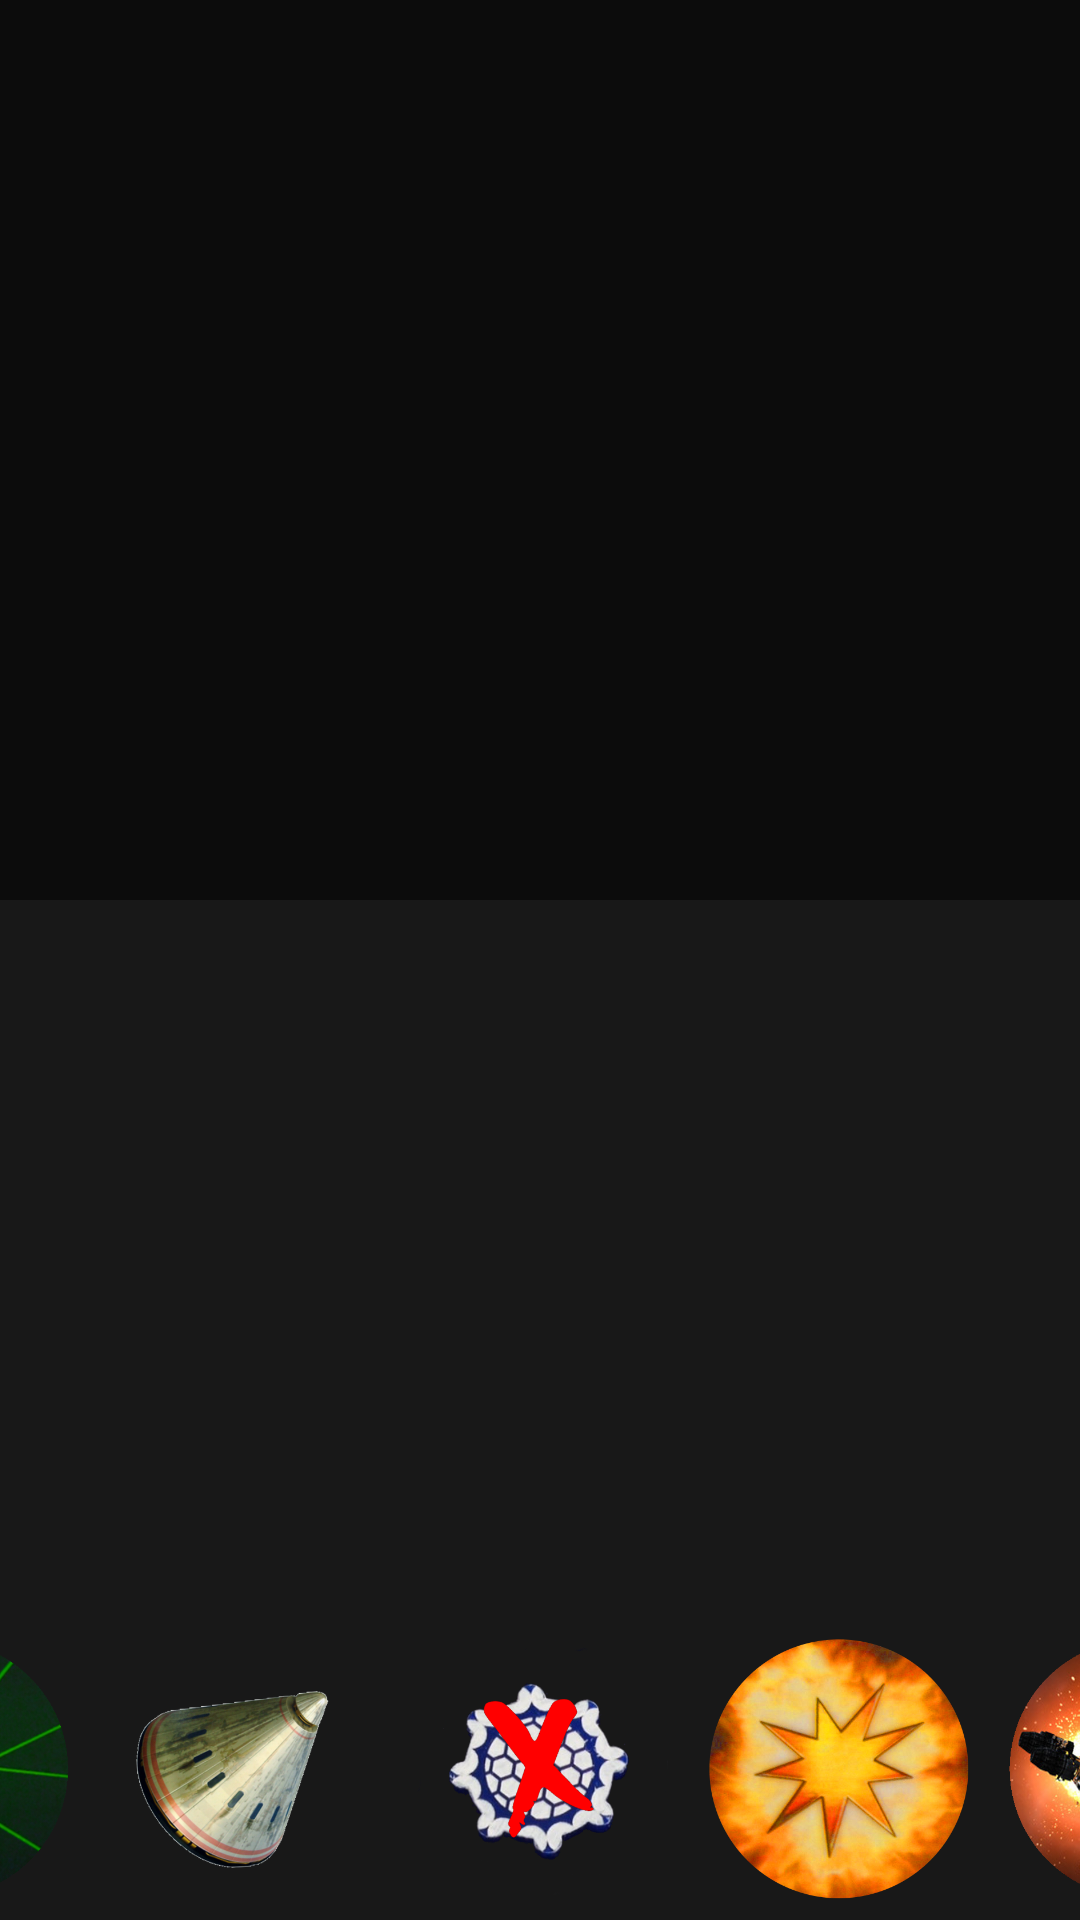

Named icons in this screenshot (1080 × 1920) and their bounding boxes, (x1, y1, x2, y2):
hit: (709, 1639, 968, 1898)
shield out: (449, 1684, 629, 1857)
torpedo: (136, 1691, 329, 1868)
